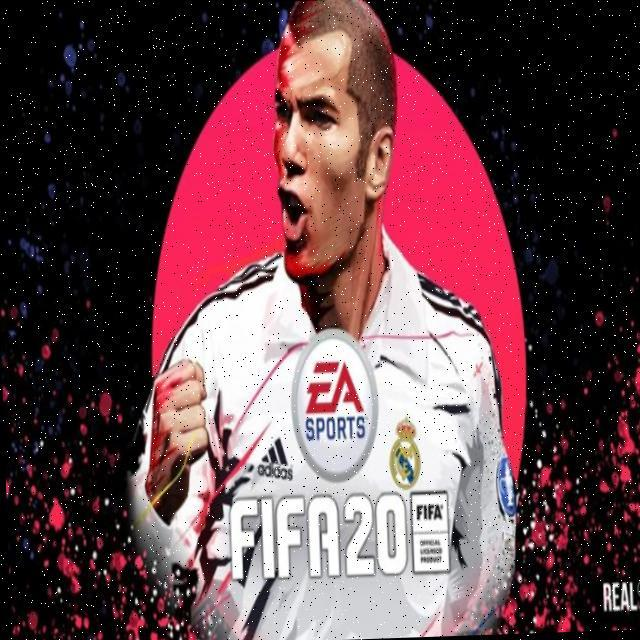Adidas: (257, 432, 294, 485)
